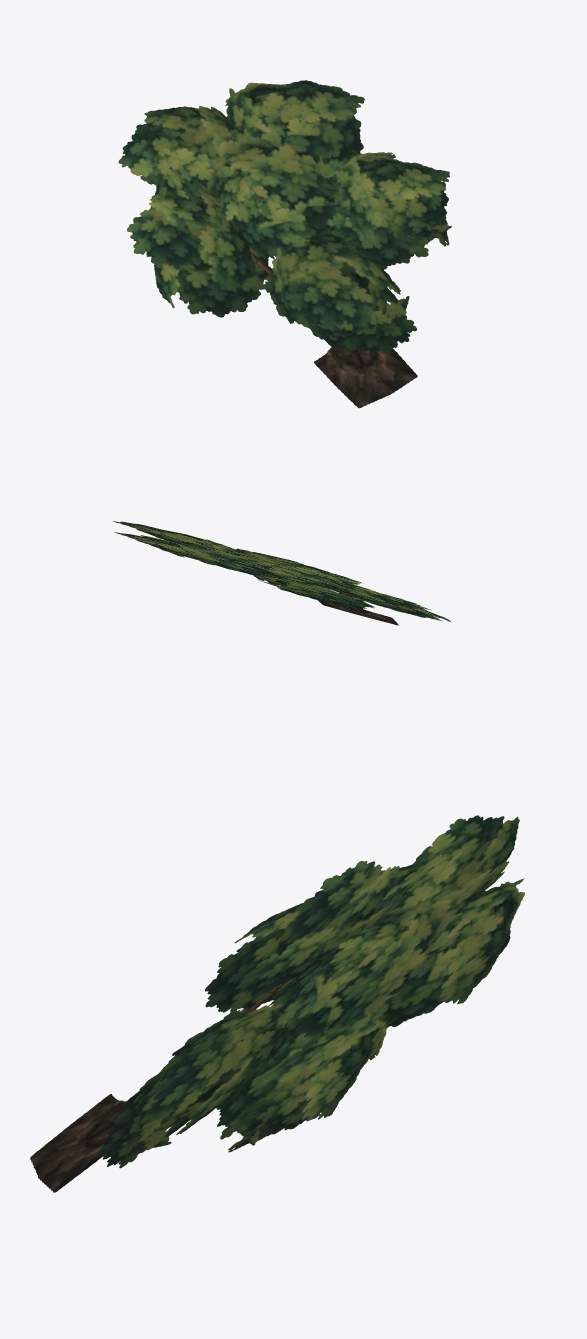
Rendered from tree_hazel_lod2.glb.
3 renders of one model, top to bottom at view 1: azimuth 30°, elevation 25°; view 2: azimuth 150°, elevation 25°; view 3: azimuth 270°, elevation 25°, orthographic. The views are drawn at different scales.
Visible parts, largest first — view 1: tree_hazel_lod2; view 2: tree_hazel_lod2; view 3: tree_hazel_lod2.
Part boxes in pixels (box(x1,y1,x2,y2)): tree_hazel_lod2: box(118, 80, 451, 408); tree_hazel_lod2: box(112, 521, 451, 625); tree_hazel_lod2: box(30, 815, 524, 1192).
Bounding box in the file's own units: 4.61 × 2.58 × 3.82.
Materials: 1 (1 with a texture image).
